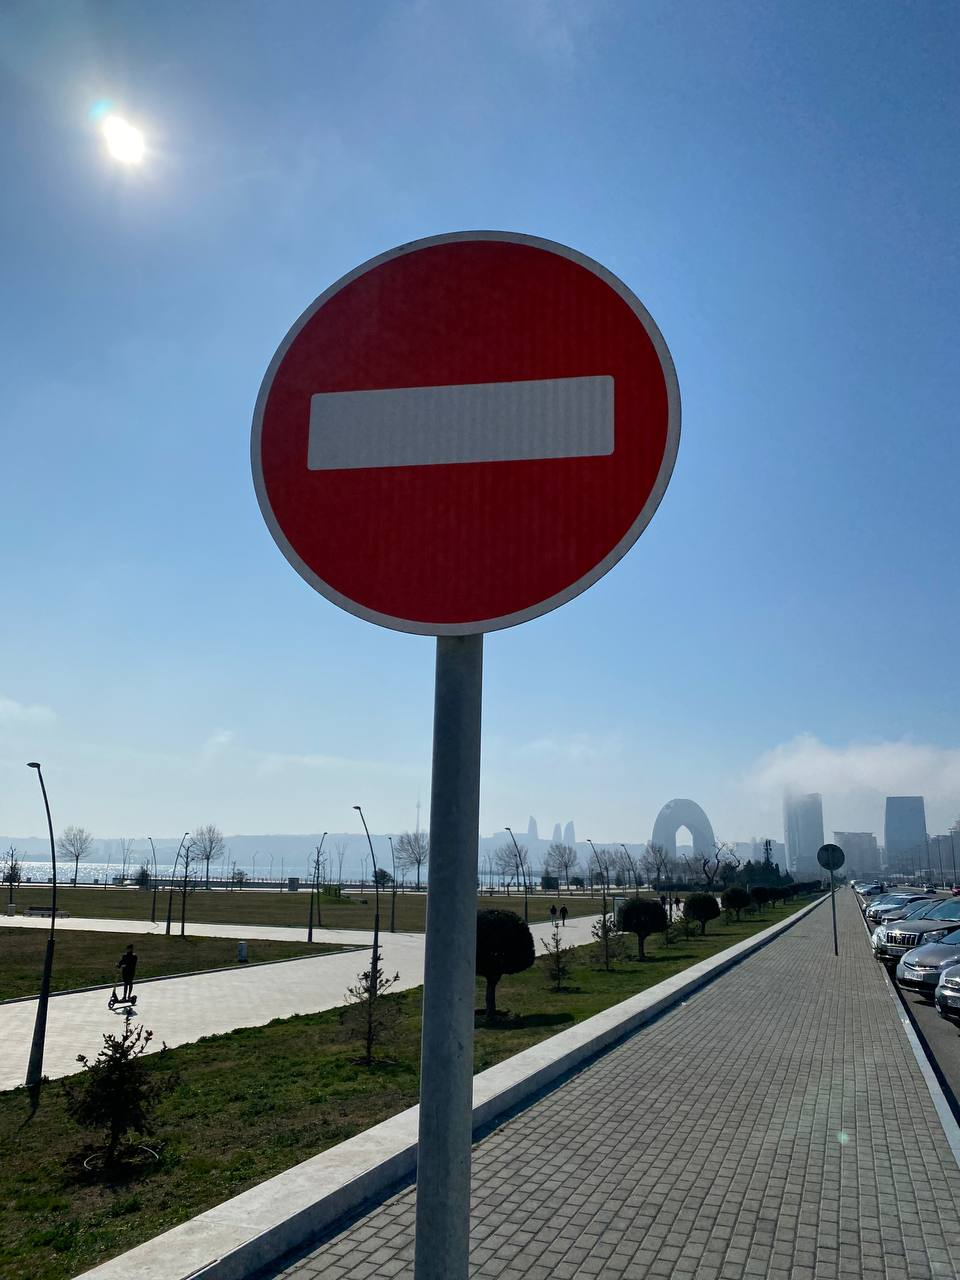No Entry: (250, 227, 685, 638)
